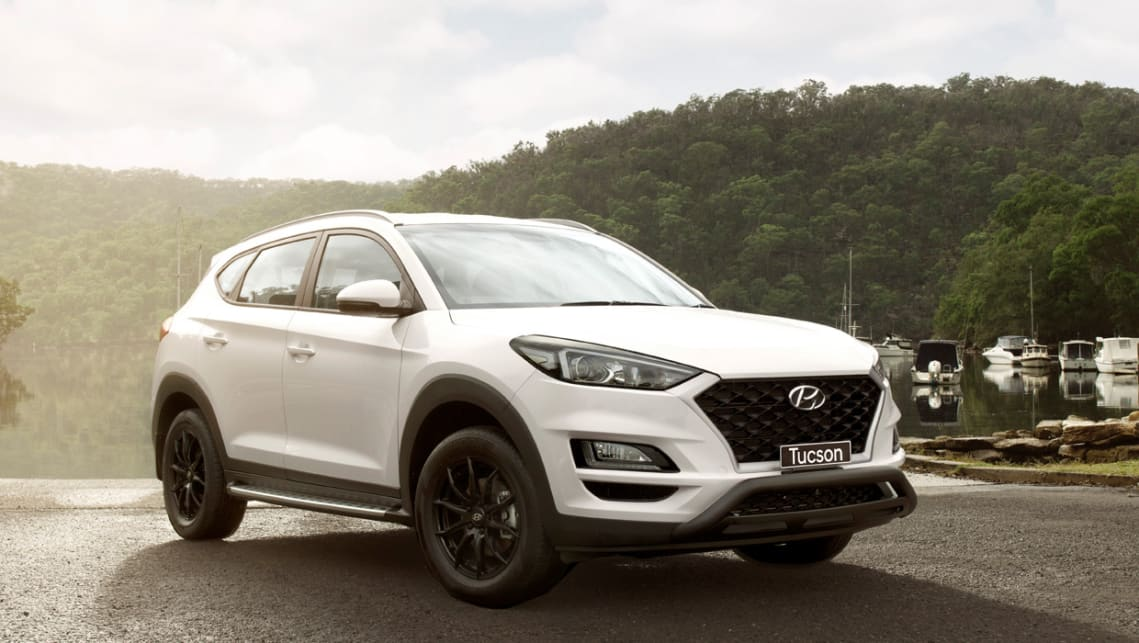car: (151, 208, 918, 611)
